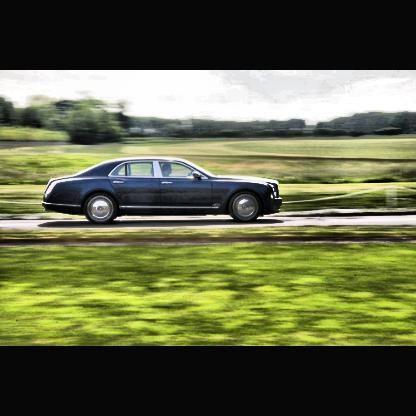Bentley Mulsanne Sedan 2011: (44, 158, 285, 227)
